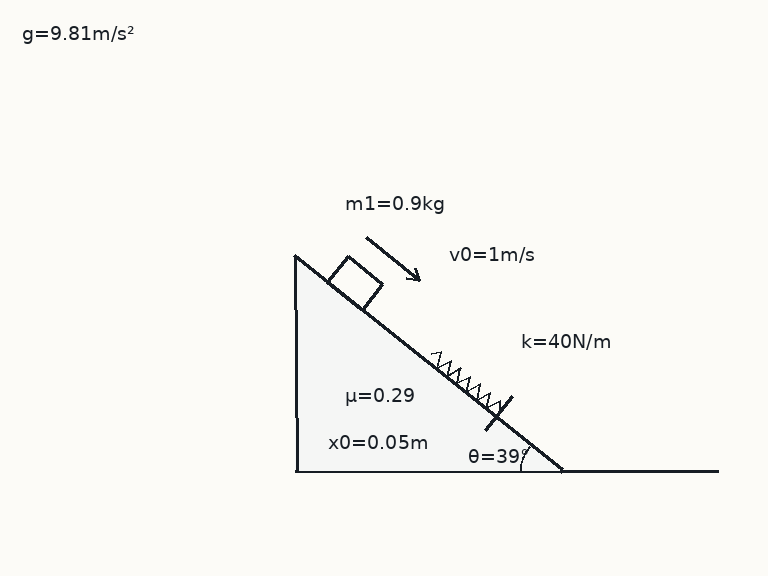block: (325, 255, 384, 312)
ramp: (293, 254, 563, 473)
spring: (429, 351, 502, 412)
